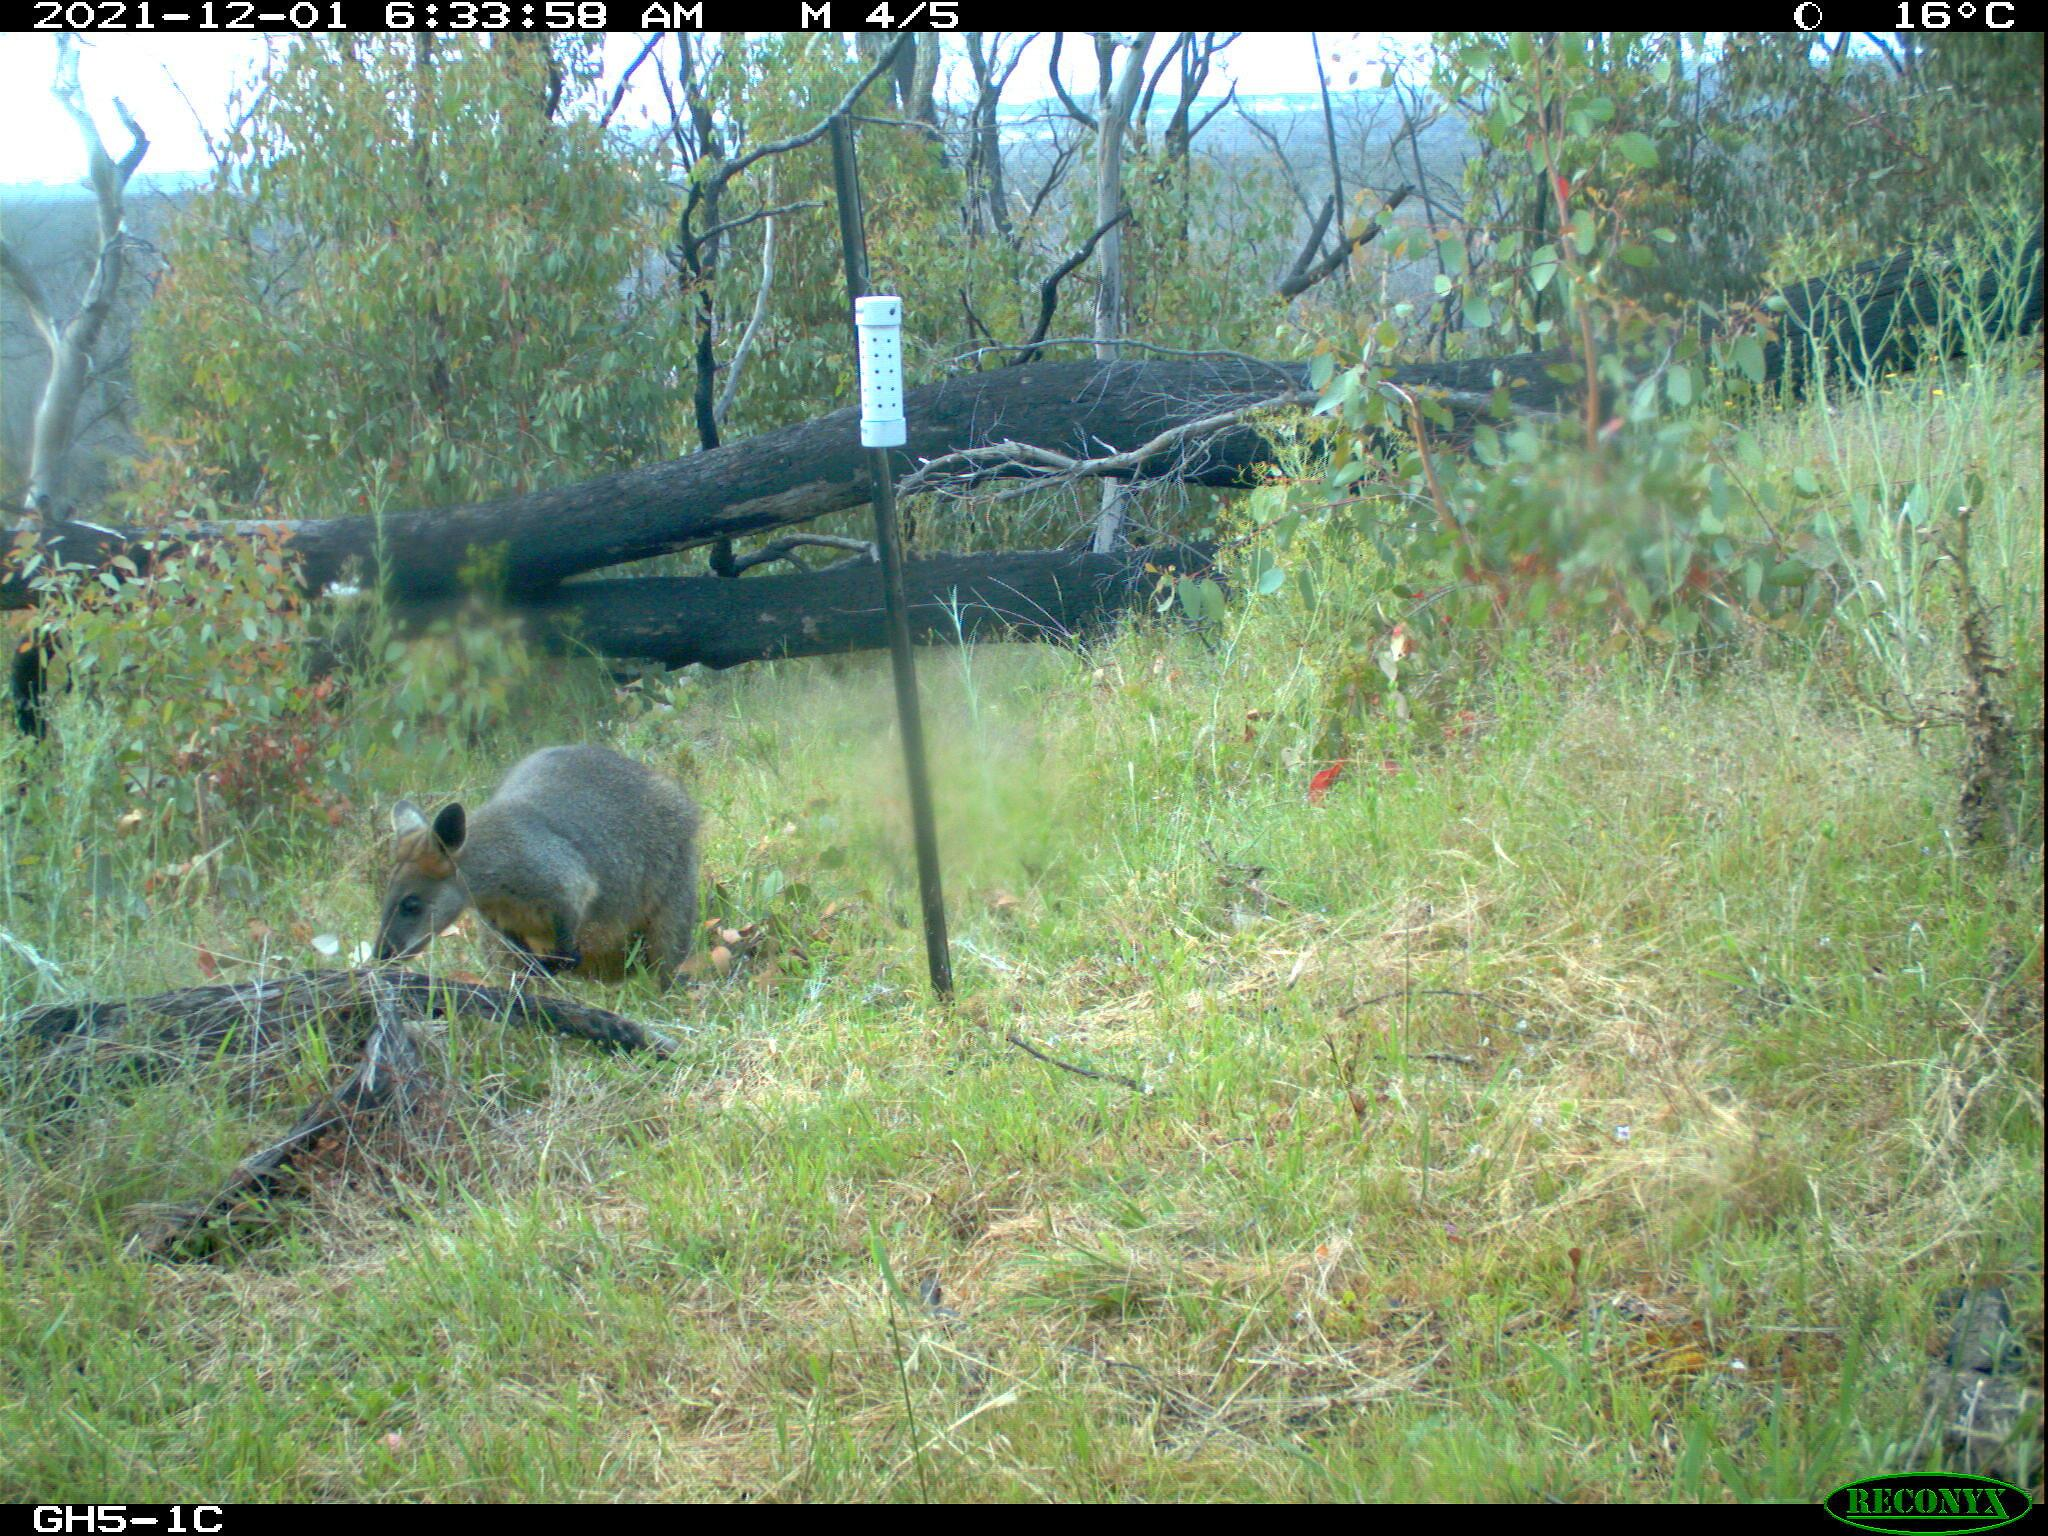Swamp wallaby: (374, 742, 710, 1004)
